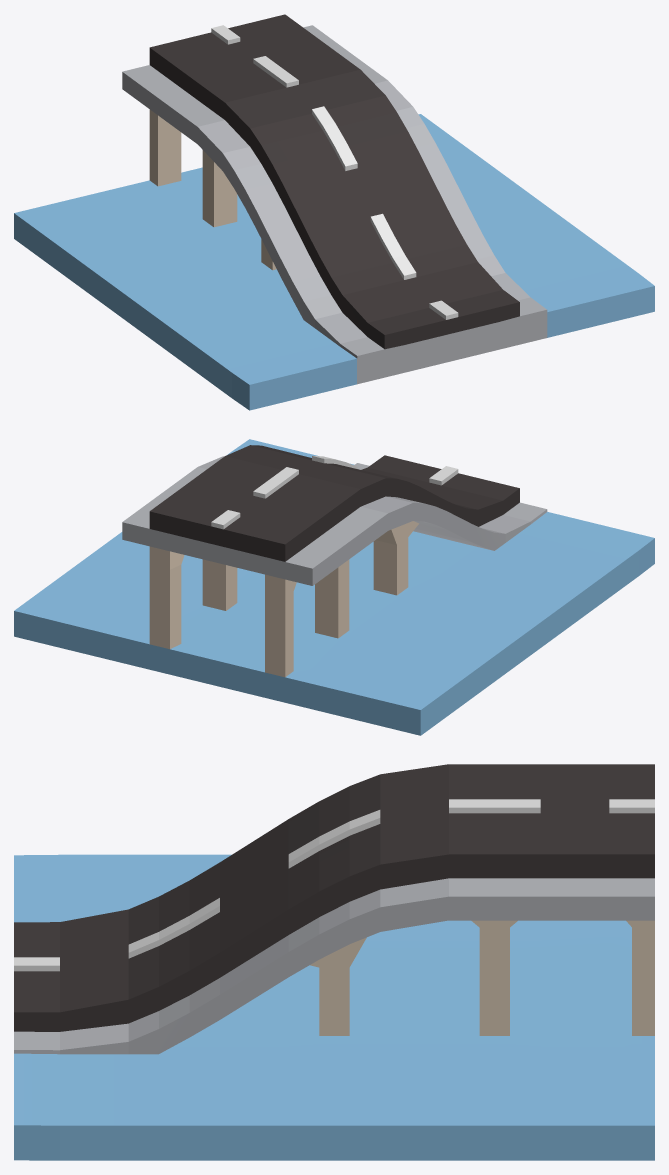
File: Street_Bridge_WaterRamp.glb
3 views of the same model, one above another, from view 1: azimuth 30°, elevation 25°; view 2: azimuth 150°, elevation 25°; view 3: azimuth 270°, elevation 25° (orthographic). The views are drawn at different scales.
Visible parts, largest first — view 1: Street_Ramp_Water; view 2: Street_Ramp_Water; view 3: Street_Ramp_Water.
Boxes of the visible parts, bbox=[...] form: Street_Ramp_Water: bbox=[14, 14, 654, 410]; Street_Ramp_Water: bbox=[14, 439, 654, 735]; Street_Ramp_Water: bbox=[14, 764, 654, 1160].
Size of the model in its own units: 2 by 0.7638 by 2.
